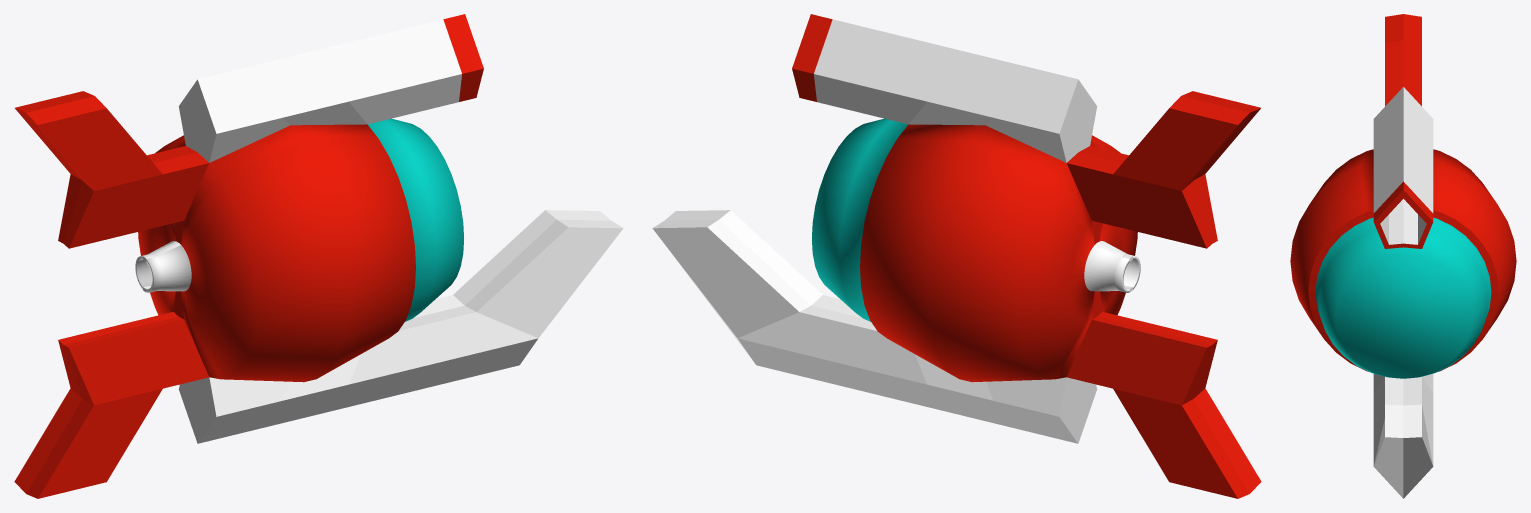
The model's file is Healer2.fbx.
3 renders of one model, left to right at view 1: azimuth 30°, elevation 25°; view 2: azimuth 150°, elevation 25°; view 3: azimuth 270°, elevation 25°, orthographic. The views are drawn at different scales.
Visible parts, largest first — view 1: Cylinder; view 2: Cylinder; view 3: Cylinder.
Boxes of the visible parts, x1,y1,x2,y2 form: Cylinder: (14, 14, 623, 498); Cylinder: (652, 14, 1261, 498); Cylinder: (1290, 14, 1516, 498).
Size of the model in its own units: 561 by 349 by 238.
